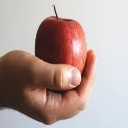apple: (34, 15, 88, 92)
